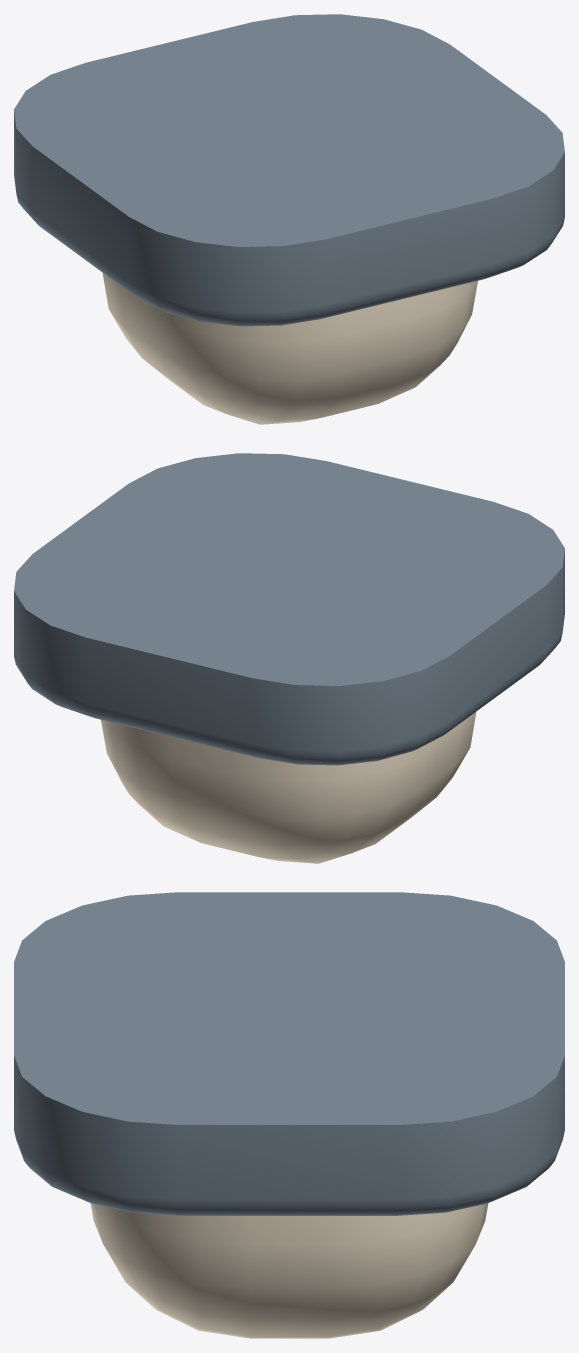
Rendered from Square_Roof_Light.fbx.
3 views of the same model, one above another, from view 1: azimuth 30°, elevation 25°; view 2: azimuth 150°, elevation 25°; view 3: azimuth 270°, elevation 25° (orthographic). The views are drawn at different scales.
Parts seen in each view (by area): view 1: Square Roof Light; view 2: Square Roof Light; view 3: Square Roof Light.
Boxes of the visible parts, x1=… form: Square Roof Light: x1=14, y1=14, x2=564, y2=424; Square Roof Light: x1=14, y1=453, x2=564, y2=863; Square Roof Light: x1=14, y1=892, x2=564, y2=1338.
Bounding box in the file's own units: 50 × 30 × 50.
